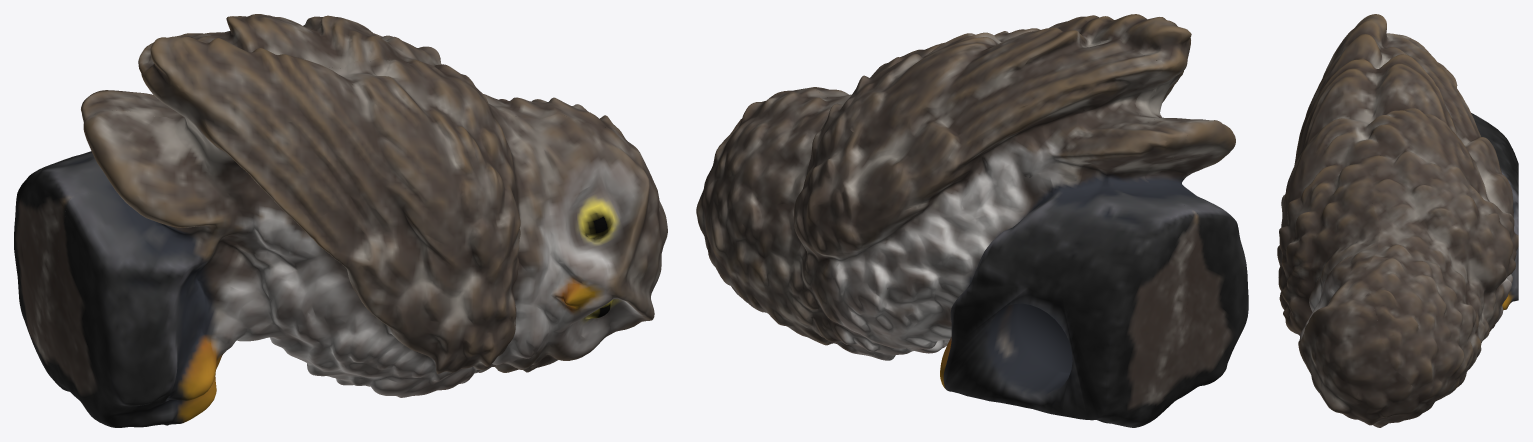
Rendered from owll.glb.
The picture shows the model from 3 angles, left to right: view 1: azimuth 30°, elevation 25°; view 2: azimuth 150°, elevation 25°; view 3: azimuth 270°, elevation 25°; orthographic projection. The views are drawn at different scales.
Parts seen in each view (by area): view 1: owl; view 2: owl; view 3: owl.
Boxes of the visible parts, x1,y1,x2,y2 form: owl: [14, 14, 667, 427]; owl: [696, 14, 1248, 427]; owl: [1277, 14, 1518, 427].
Size of the model in its own units: 0.7951 by 0.5673 by 0.4437.
1 material, 1 textured.
